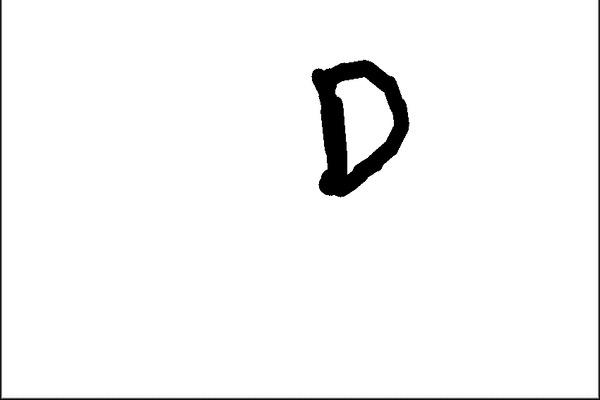D: (307, 51, 416, 201)
